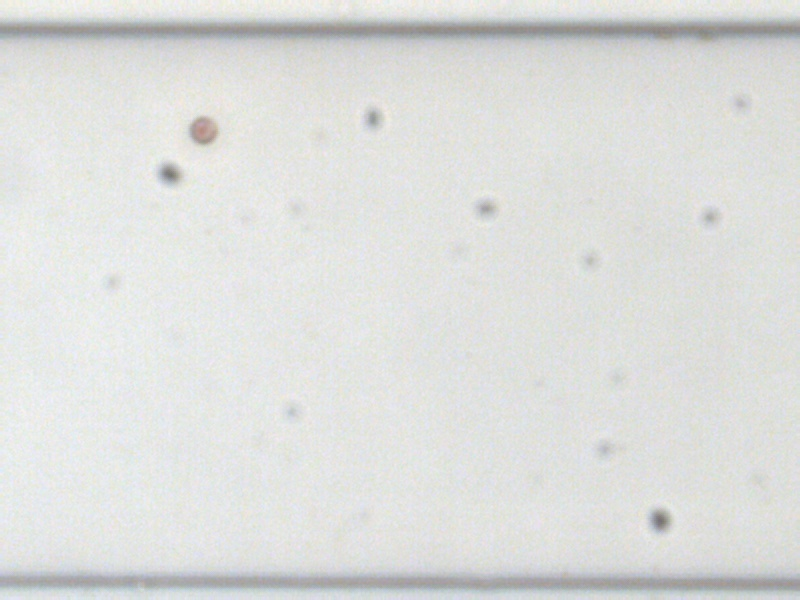Porphyridium: (187, 115, 218, 144)
